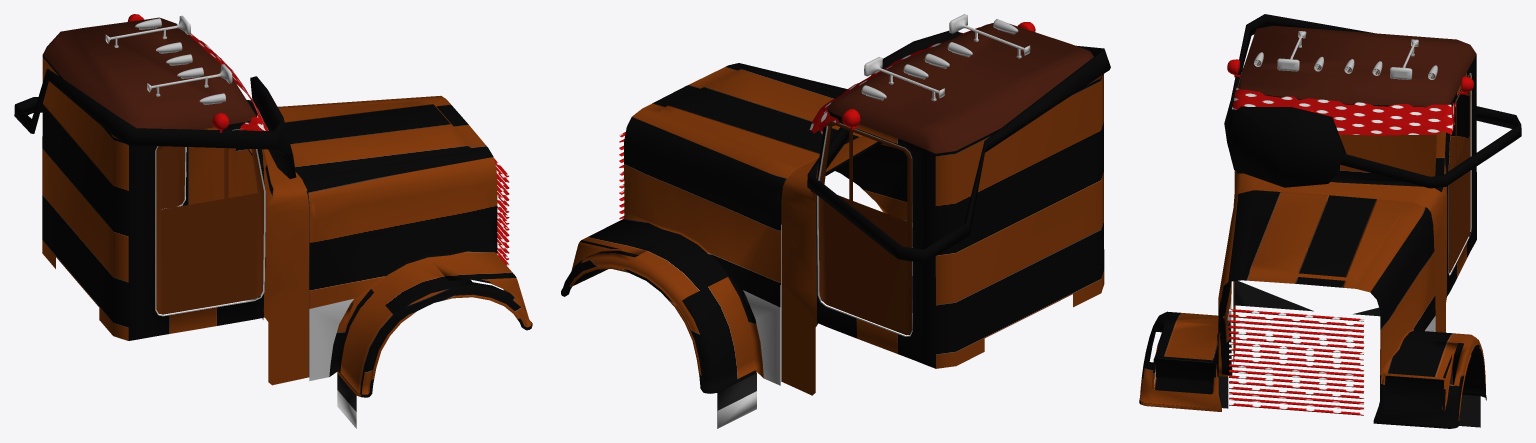
File: LouneStar_McTruck3__STCheckGLB.glb
3 renders of one model, left to right at view 1: azimuth 30°, elevation 25°; view 2: azimuth 150°, elevation 25°; view 3: azimuth 270°, elevation 25°, orthographic. The views are drawn at different scales.
Visible parts, largest first — view 1: PladeMetal, Foererum, Doeres, Top, OejeKlap, HornMetal, Grill, SolSkaermOeverstCockpit; view 2: PladeMetal, Foererum, Top, Doeres, OejeKlap, HornMetal, SolSkaermOeverstCockpit; view 3: PladeMetal, Top, OejeKlap, Foererum, Grill, SolSkaermOeverstCockpit, Doeres, HornMetal.
Part boxes in pixels (left/top/right/bottom): PladeMetal: left=236, top=96, right=532, bottom=428; Foererum: left=42, top=55, right=309, bottom=385; Doeres: left=155, top=128, right=265, bottom=316; Top: left=42, top=17, right=256, bottom=138; OejeKlap: left=14, top=69, right=296, bottom=178; HornMetal: left=105, top=14, right=232, bottom=132; Grill: left=494, top=158, right=509, bottom=265; SolSkaermOeverstCockpit: left=189, top=33, right=268, bottom=130; PladeMetal: left=561, top=63, right=912, bottom=428; Foererum: left=781, top=74, right=1104, bottom=395; Top: left=827, top=23, right=1101, bottom=153; Doeres: left=817, top=121, right=912, bottom=336; OejeKlap: left=807, top=30, right=1110, bottom=262; HornMetal: left=842, top=14, right=1035, bottom=130; SolSkaermOeverstCockpit: left=807, top=27, right=979, bottom=134; PladeMetal: left=1139, top=190, right=1486, bottom=428; Top: left=1238, top=25, right=1476, bottom=106; OejeKlap: left=1224, top=14, right=1521, bottom=188; Foererum: left=1233, top=55, right=1476, bottom=364; Grill: left=1229, top=309, right=1363, bottom=415; SolSkaermOeverstCockpit: left=1232, top=86, right=1456, bottom=135; Doeres: left=1448, top=73, right=1471, bottom=275; HornMetal: left=1227, top=31, right=1473, bottom=94.
Size of the model in its own units: 0.6883 by 0.5395 by 0.5979.
8 materials, 3 textured.
